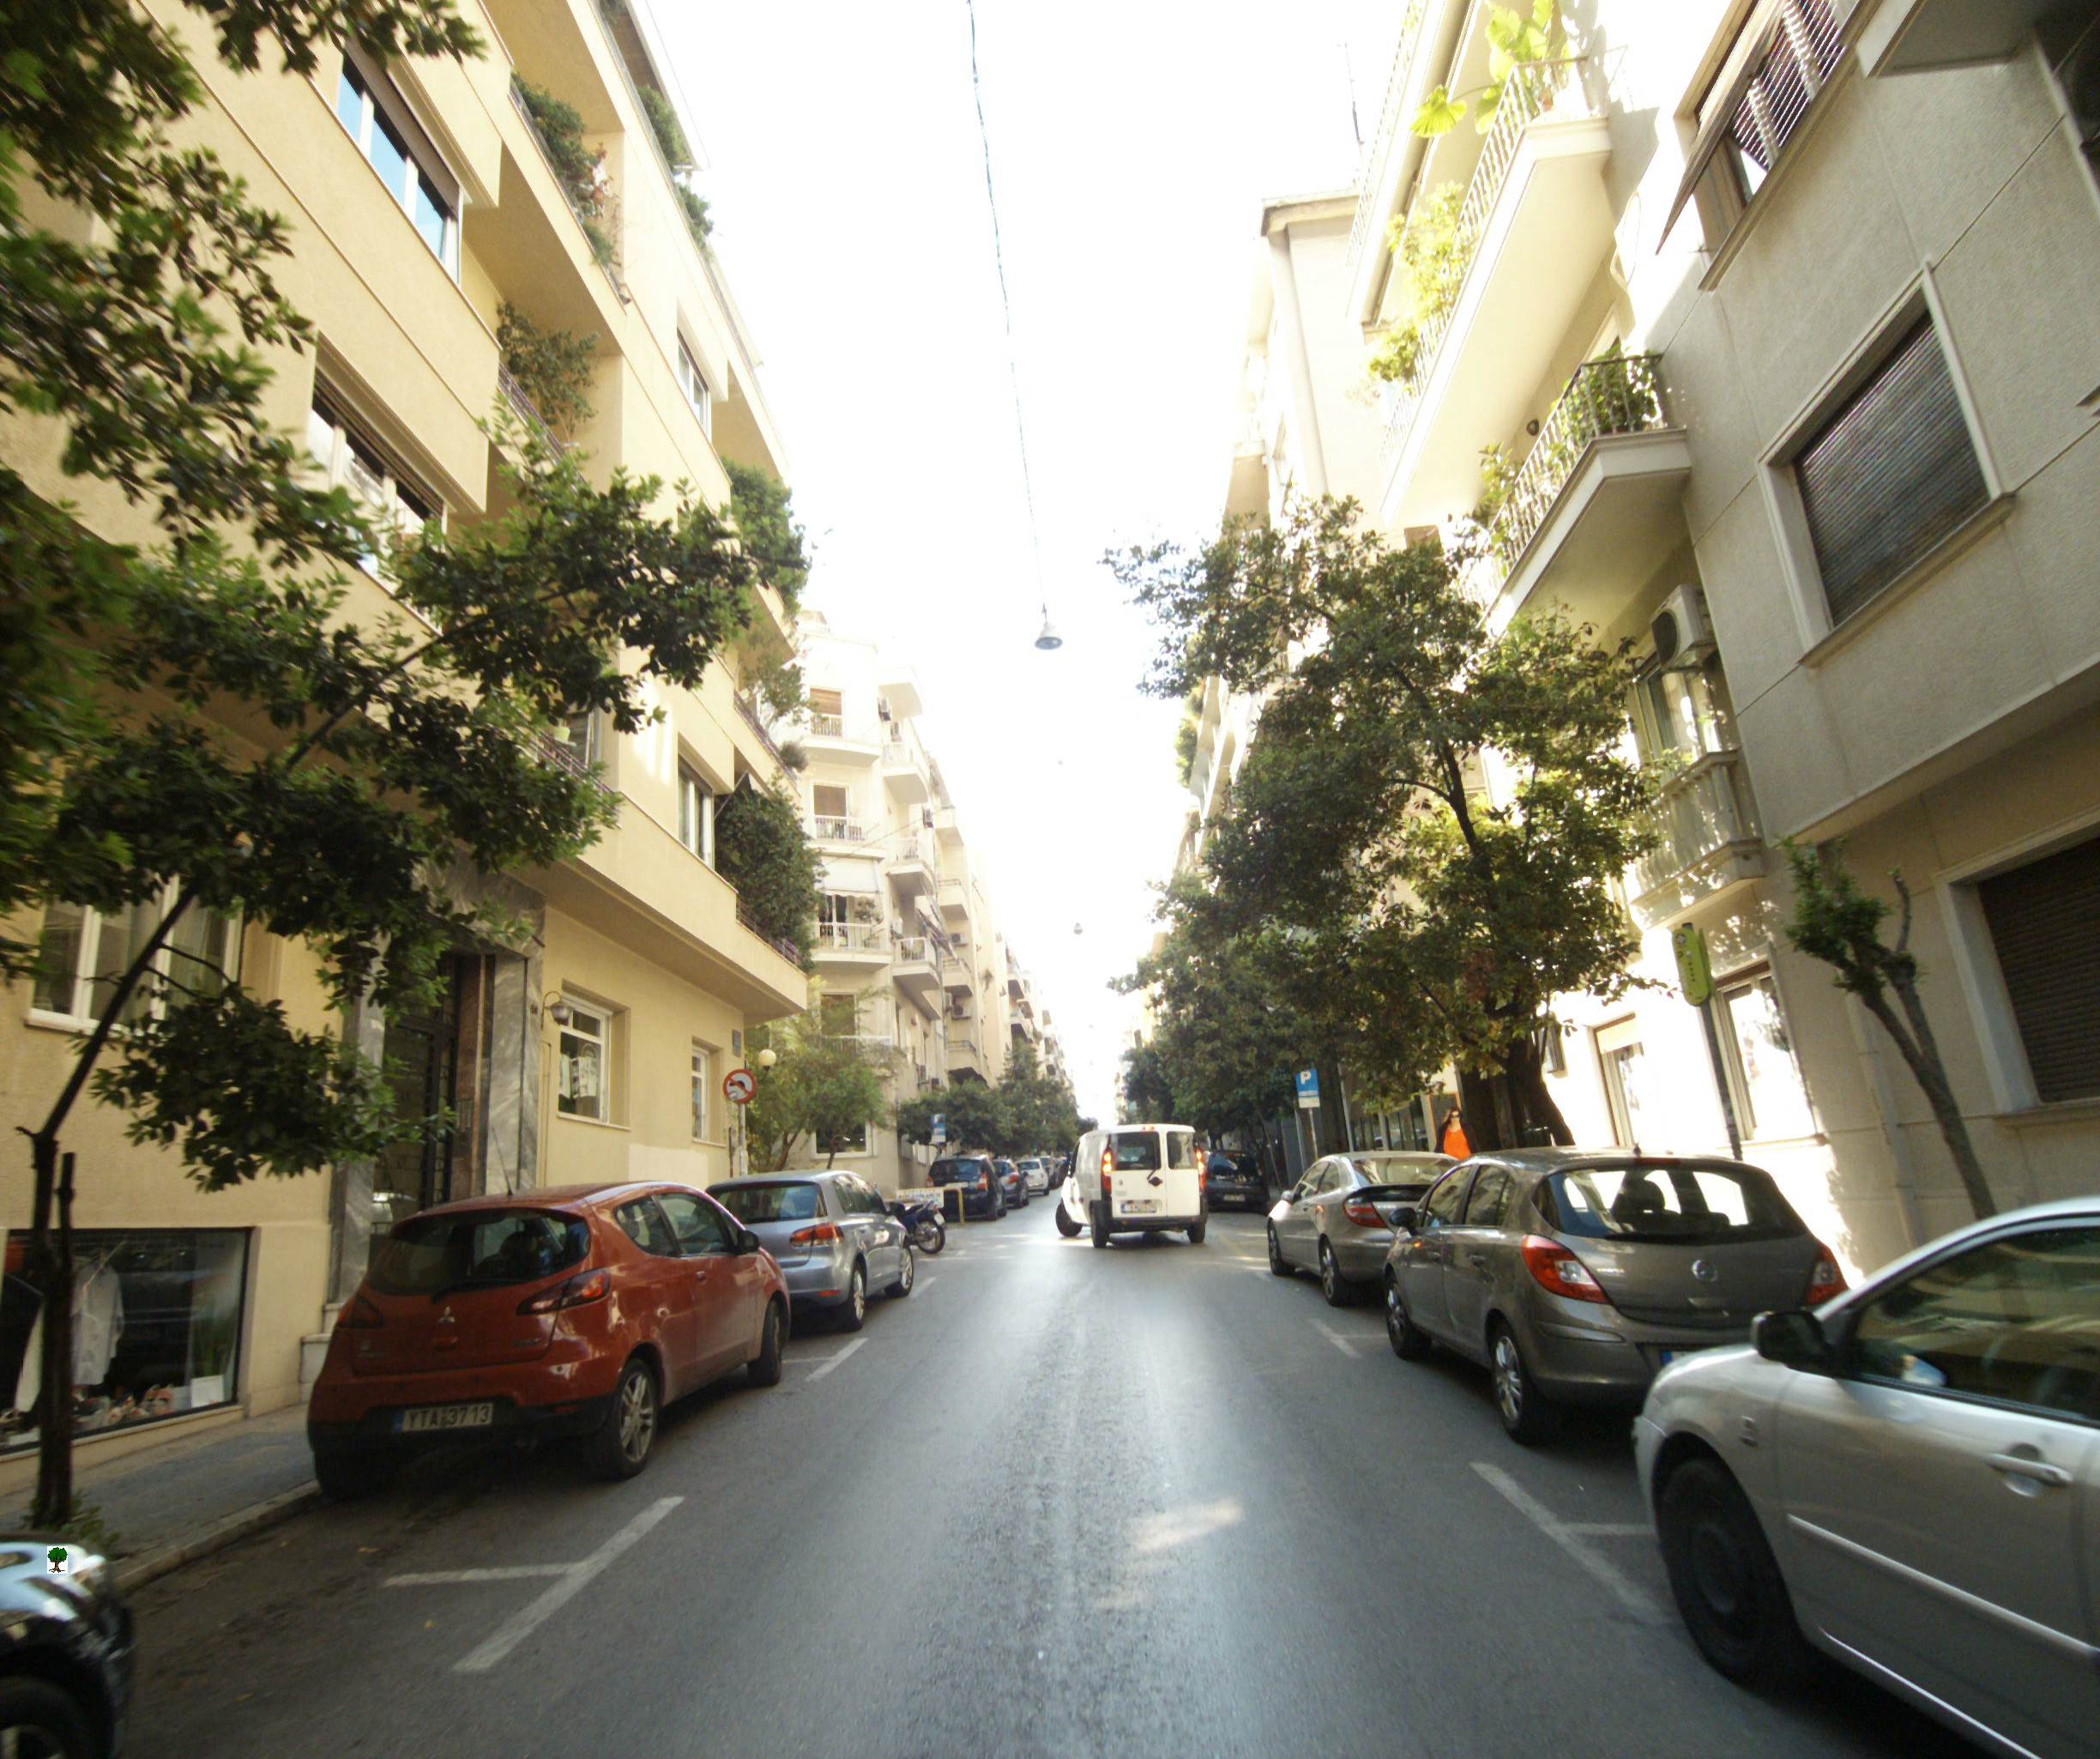tree: (1135, 483, 1755, 1274)
